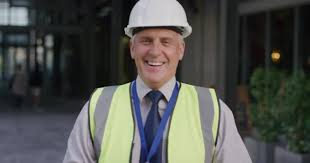Person_wearing_helmet: (122, 0, 197, 52)
